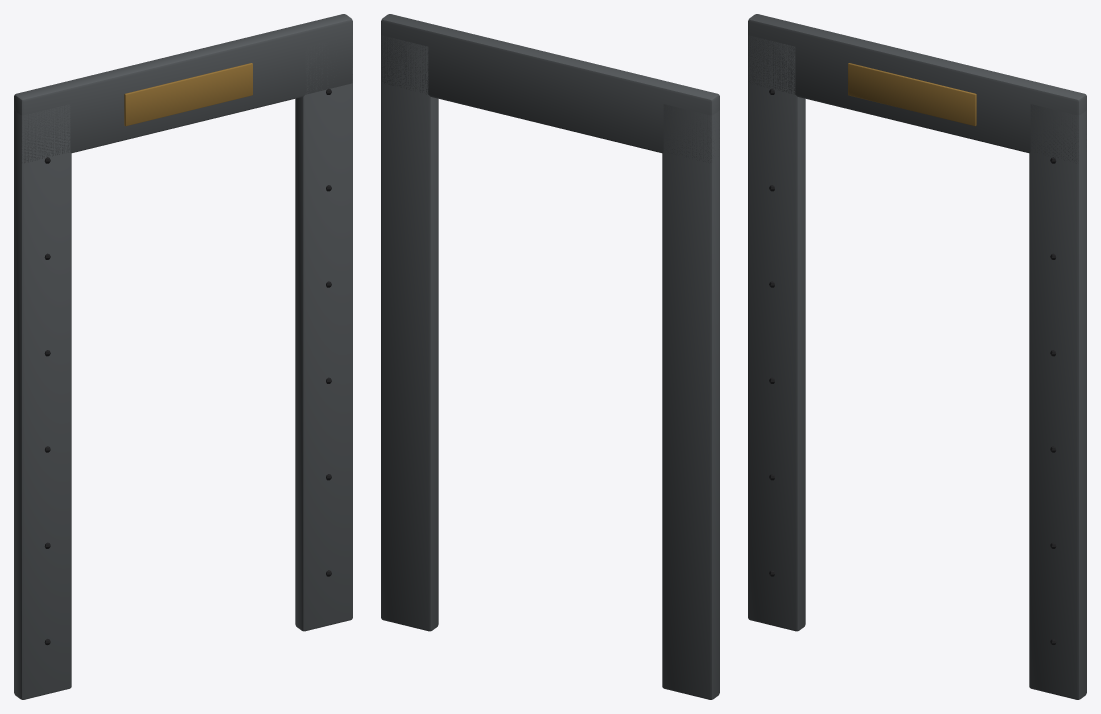
Rendered from mae_strongroom_frame.glb.
3 renders of one model, left to right at view 1: azimuth 30°, elevation 25°; view 2: azimuth 150°, elevation 25°; view 3: azimuth 330°, elevation 25°, orthographic.
Visible parts, largest first — view 1: mae_strongroom_frame; view 2: mae_strongroom_frame; view 3: mae_strongroom_frame.
Boxes of the visible parts, x1=… form: mae_strongroom_frame: x1=14, y1=14, x2=352, y2=699; mae_strongroom_frame: x1=381, y1=14, x2=719, y2=699; mae_strongroom_frame: x1=748, y1=14, x2=1086, y2=699.
Size of the model in its own units: 1.3 by 2.25 by 0.072.
